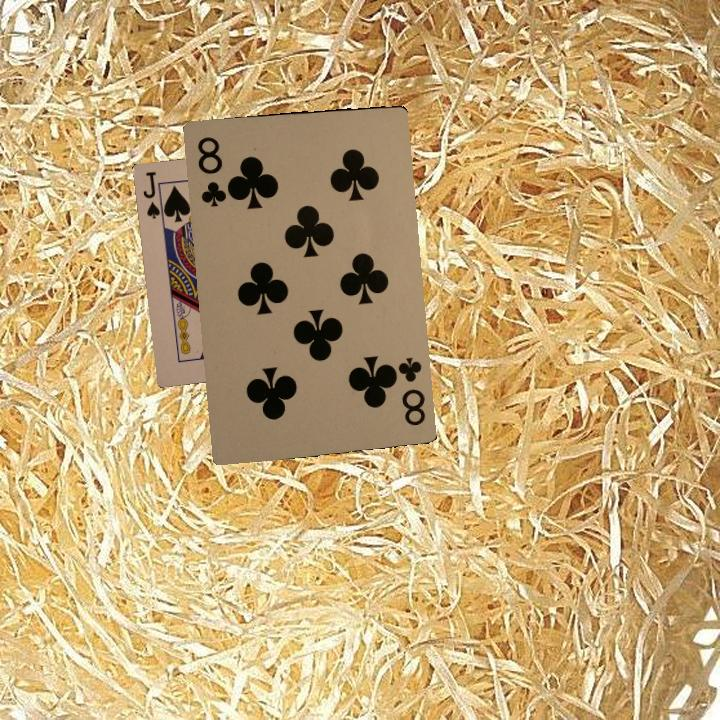8c: (386, 354, 428, 428), (193, 133, 231, 210)
Js: (139, 167, 166, 223)
